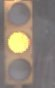Yellow: (1, 1, 37, 88)
